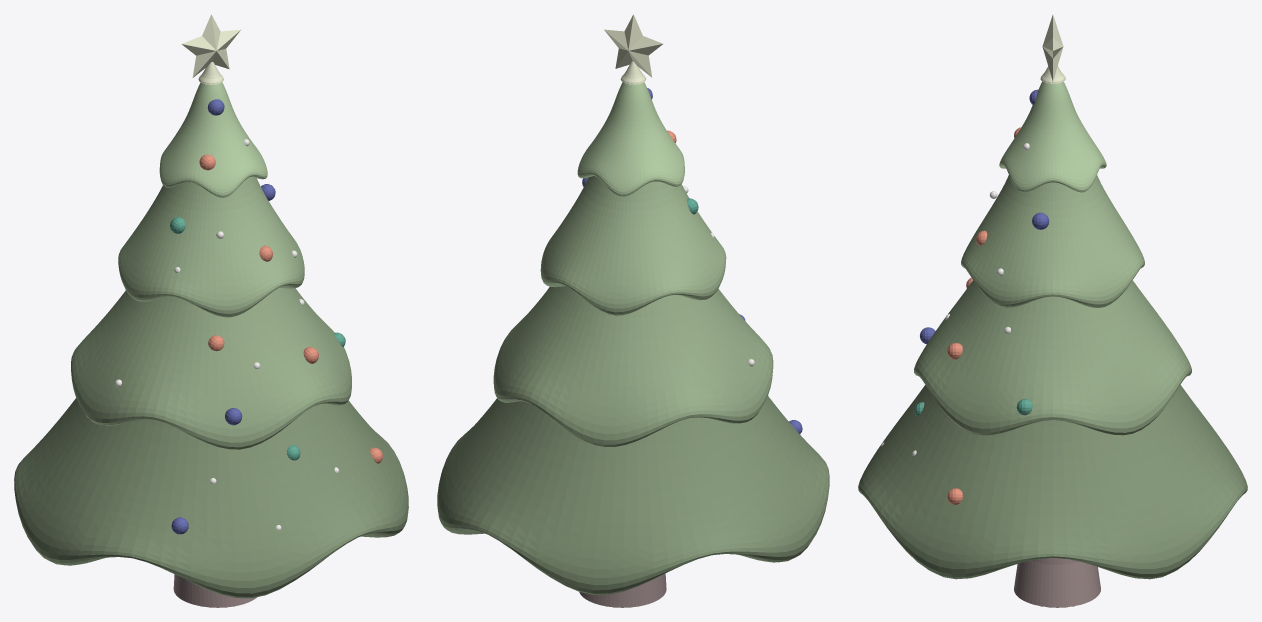
File: tree_decorated_3.glb
The picture shows the model from 3 angles, left to right: view 1: azimuth 30°, elevation 25°; view 2: azimuth 150°, elevation 25°; view 3: azimuth 270°, elevation 25°; orthographic projection.
Visible parts, largest first — view 1: Null.1, Extrude, Cylinder.1; view 2: Null.1, Extrude, Cylinder.1; view 3: Null.1, Cylinder.1, Extrude.
Part boxes in pixels (x1=…): Null.1: x1=14, y1=82, x2=408, y2=598; Extrude: x1=181, y1=14, x2=240, y2=77; Cylinder.1: x1=173, y1=574, x2=257, y2=607; Null.1: x1=437, y1=82, x2=829, y2=595; Extrude: x1=604, y1=14, x2=662, y2=77; Cylinder.1: x1=579, y1=573, x2=666, y2=607; Null.1: x1=858, y1=81, x2=1247, y2=579; Cylinder.1: x1=1014, y1=558, x2=1100, y2=607; Extrude: x1=1042, y1=15, x2=1063, y2=80.
Size of the model in its own units: 5.41 by 8.79 by 5.42.
